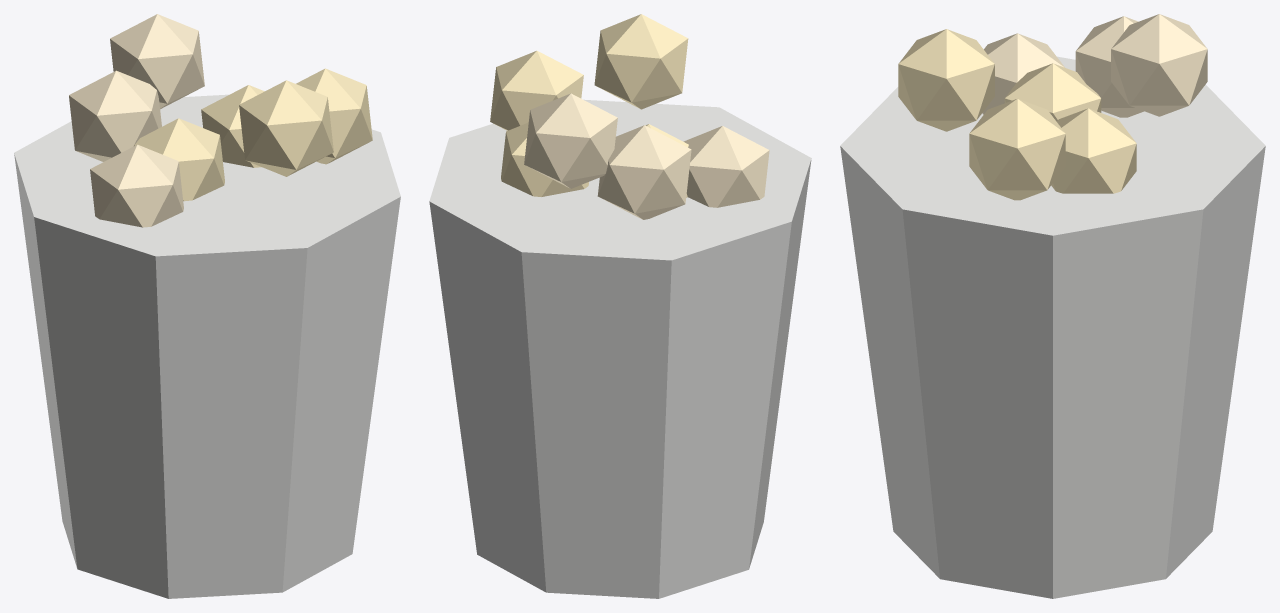
The model's file is Popcorn.fbx.
3 views of the same model, side by side, from view 1: azimuth 30°, elevation 25°; view 2: azimuth 150°, elevation 25°; view 3: azimuth 270°, elevation 25° (orthographic). The views are drawn at different scales.
Parts seen in each view (by area): view 1: Popcorn; view 2: Popcorn; view 3: Popcorn.
Part boxes in pixels (x1,y1,x2,y2): Popcorn: (14, 14, 400, 598); Popcorn: (429, 14, 811, 598); Popcorn: (840, 14, 1265, 598).
Size of the model in its own units: 1.2 by 1.61 by 1.2.
1 material, 1 textured.
